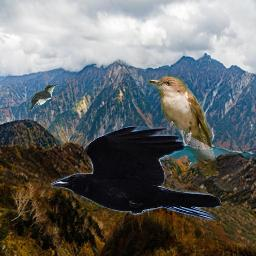Crow: (51, 126, 222, 221)
Cuckoo: (147, 74, 219, 177), (28, 84, 59, 111)
